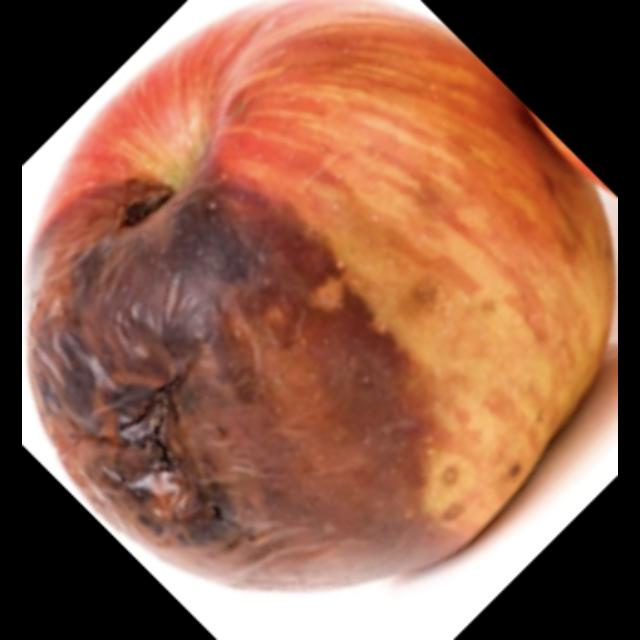Apel Tidak Segar: (24, 0, 616, 596)
